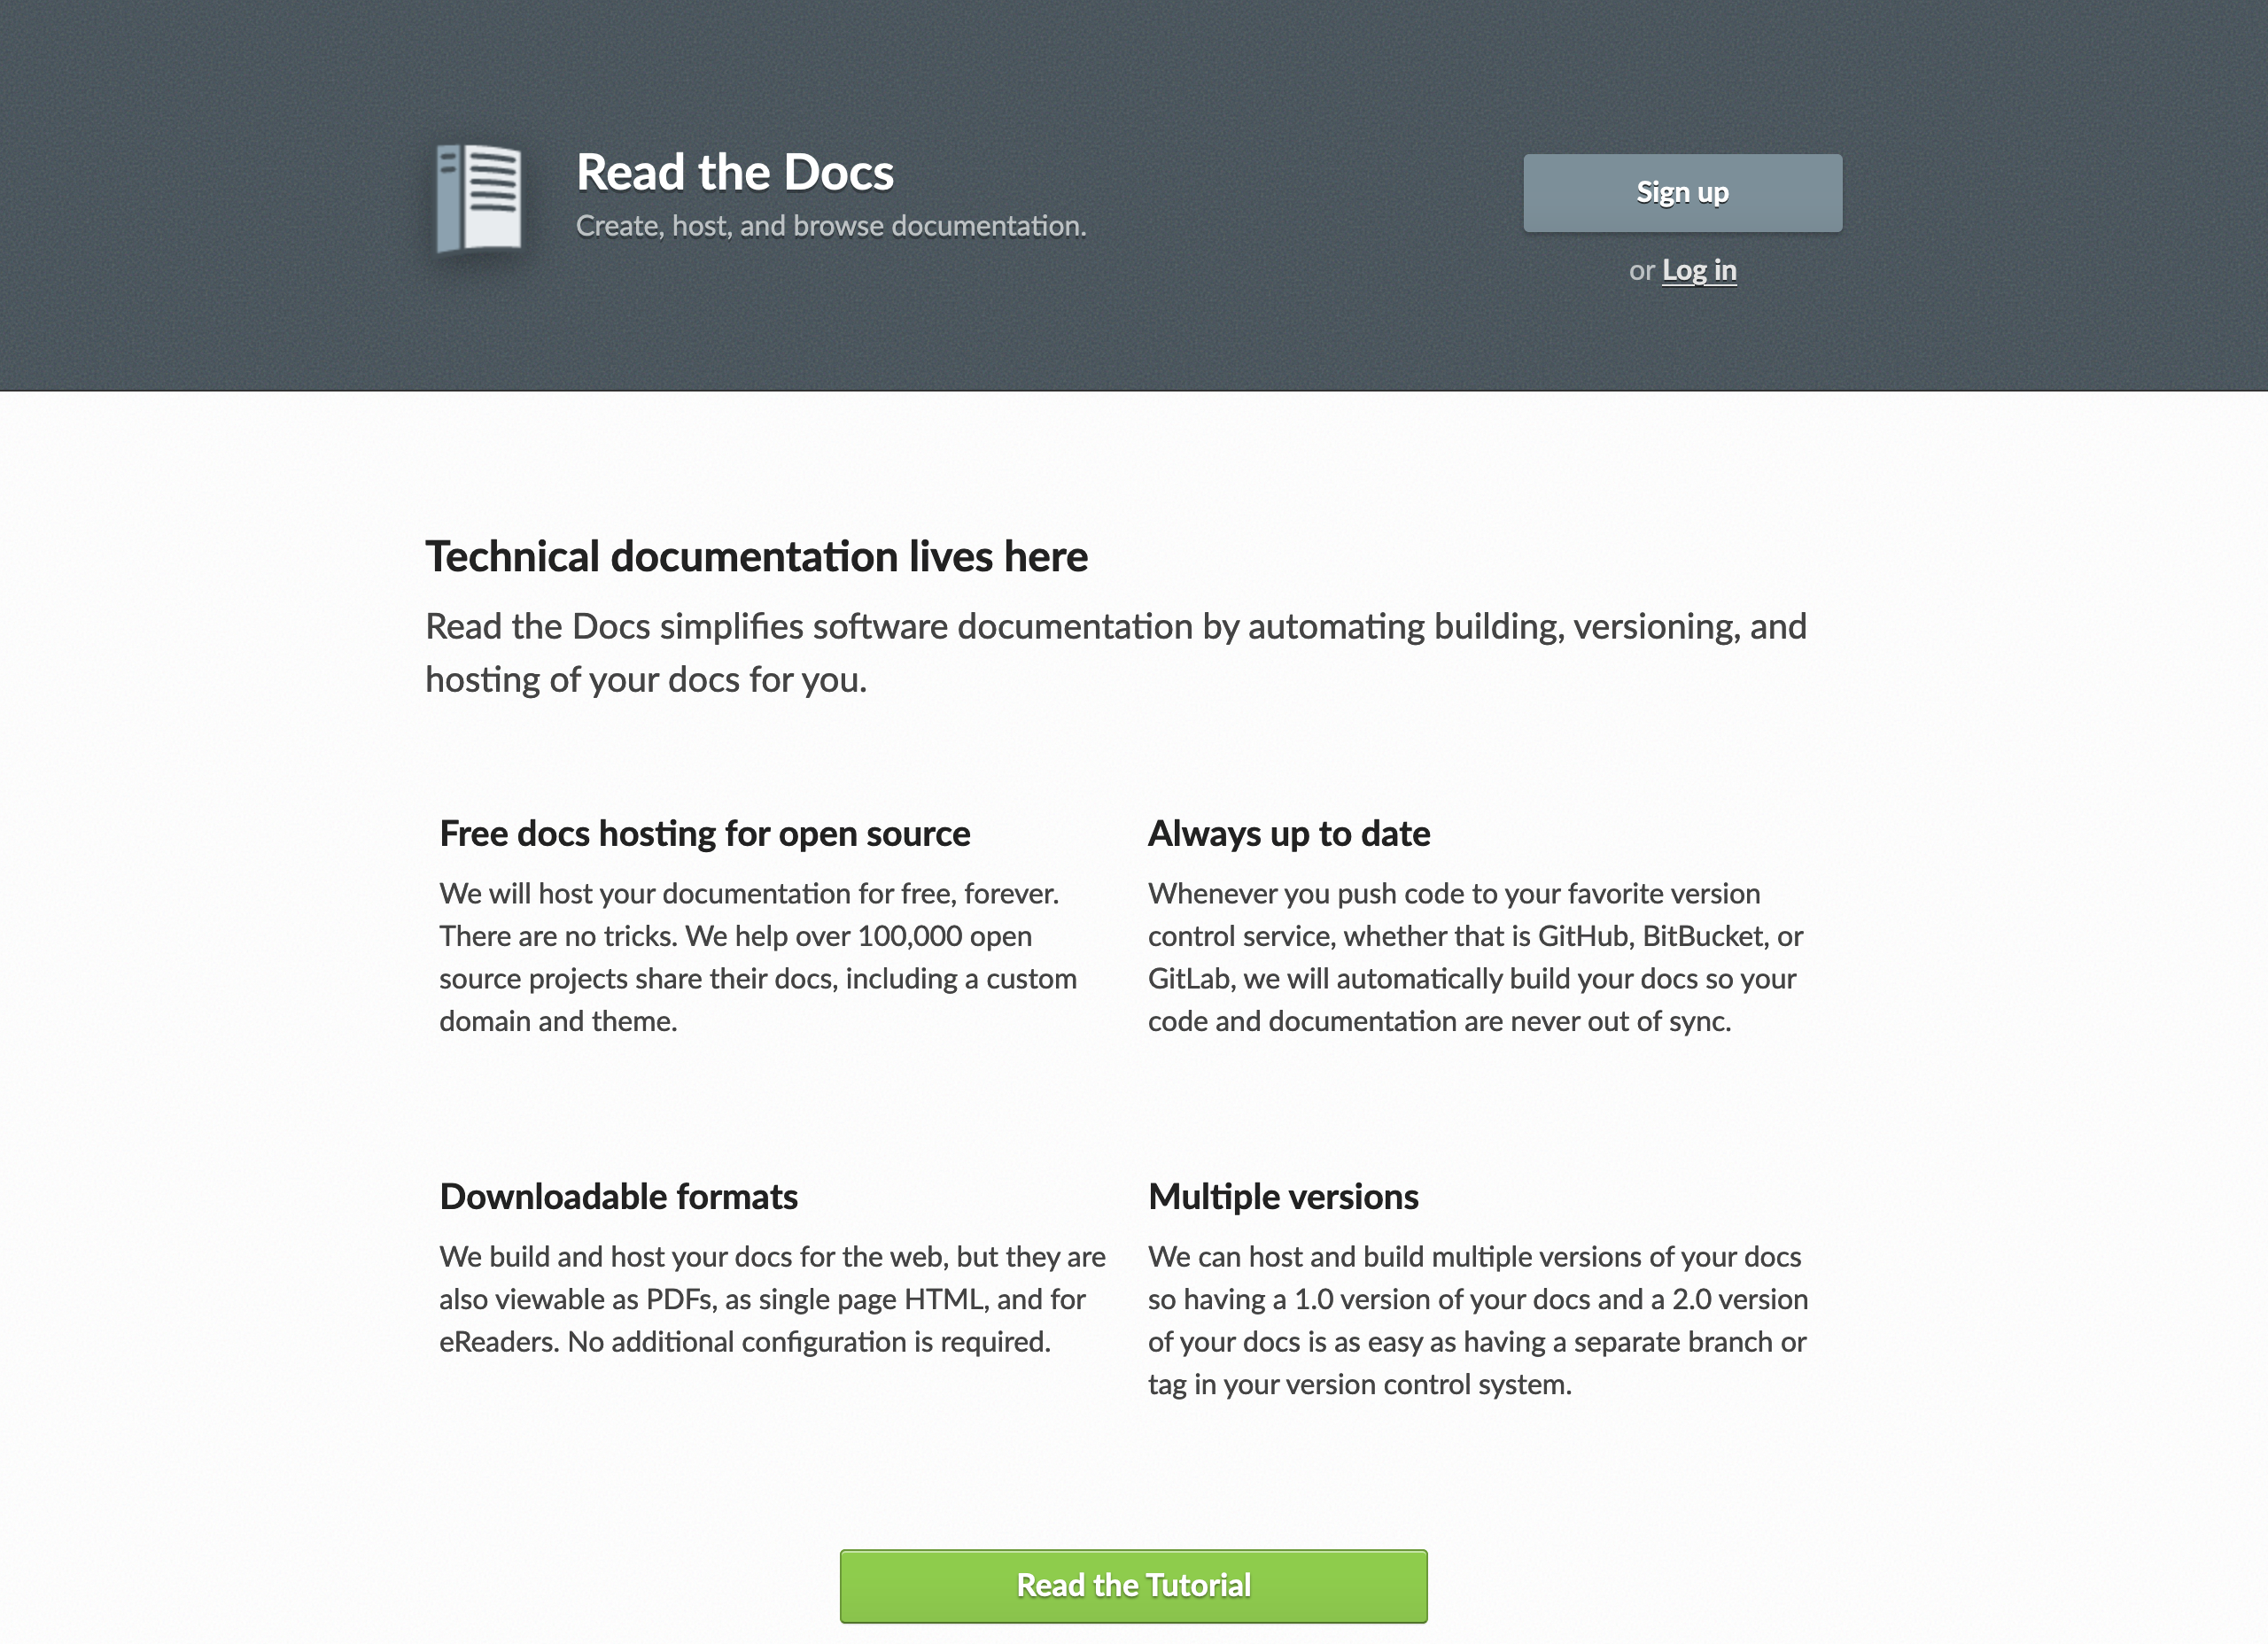Login: (1653, 248, 1754, 294)
